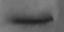LeftEyeFatigue: (6, 6, 56, 32)
